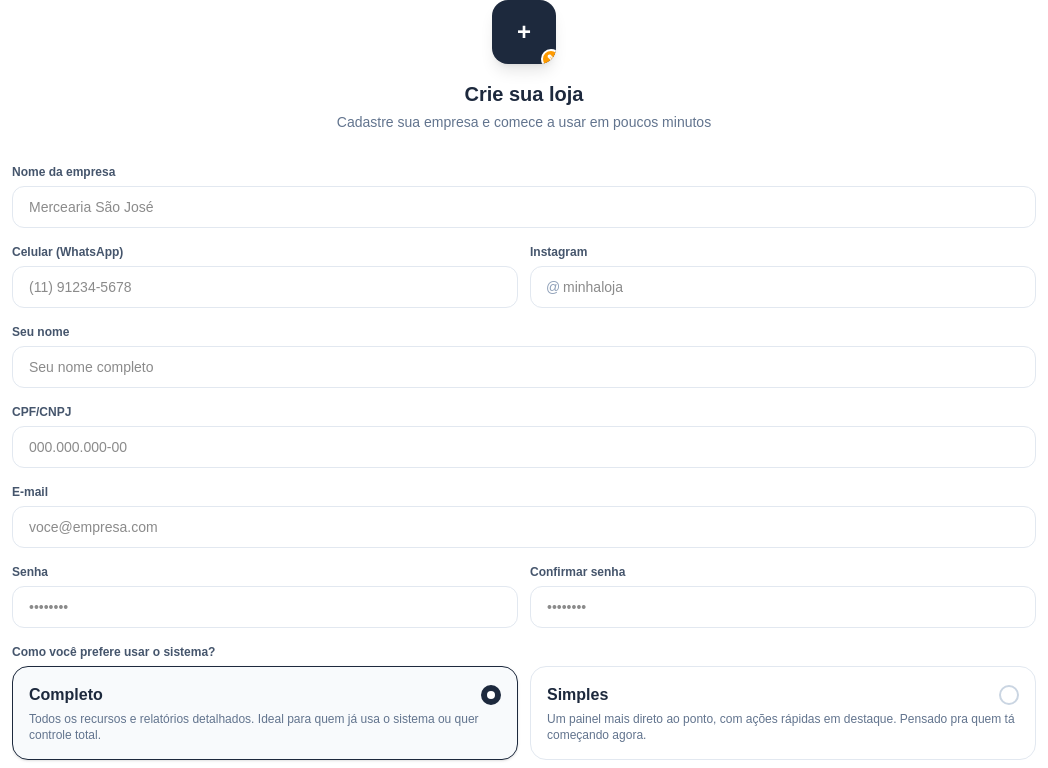
Scenario: RegisterForm › aplica a máscara de CPF/CNPJ ao digitar
The image size is (1048, 768).
Type "12345678909" into the field labelled "CPF/CNPJ".
click(524, 447); type("12345678909")  # box [12, 426, 1036, 468]
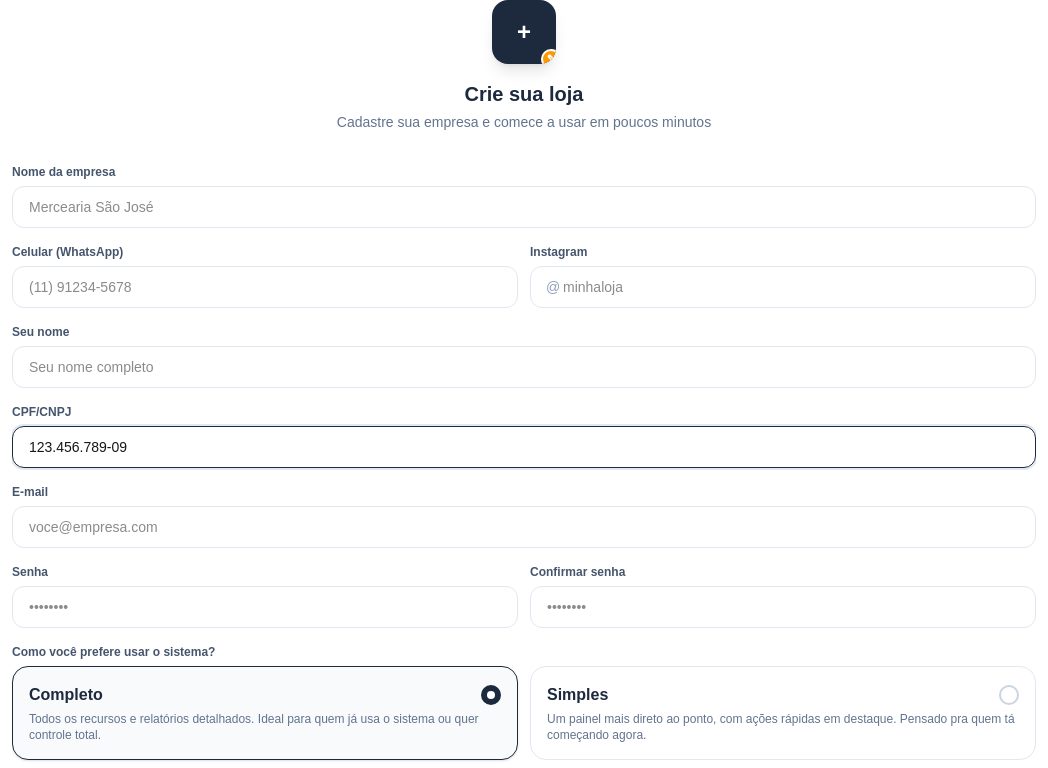
Result: the field labelled "CPF/CNPJ" holds "123.456.789-09" at [12, 426, 1036, 468]
